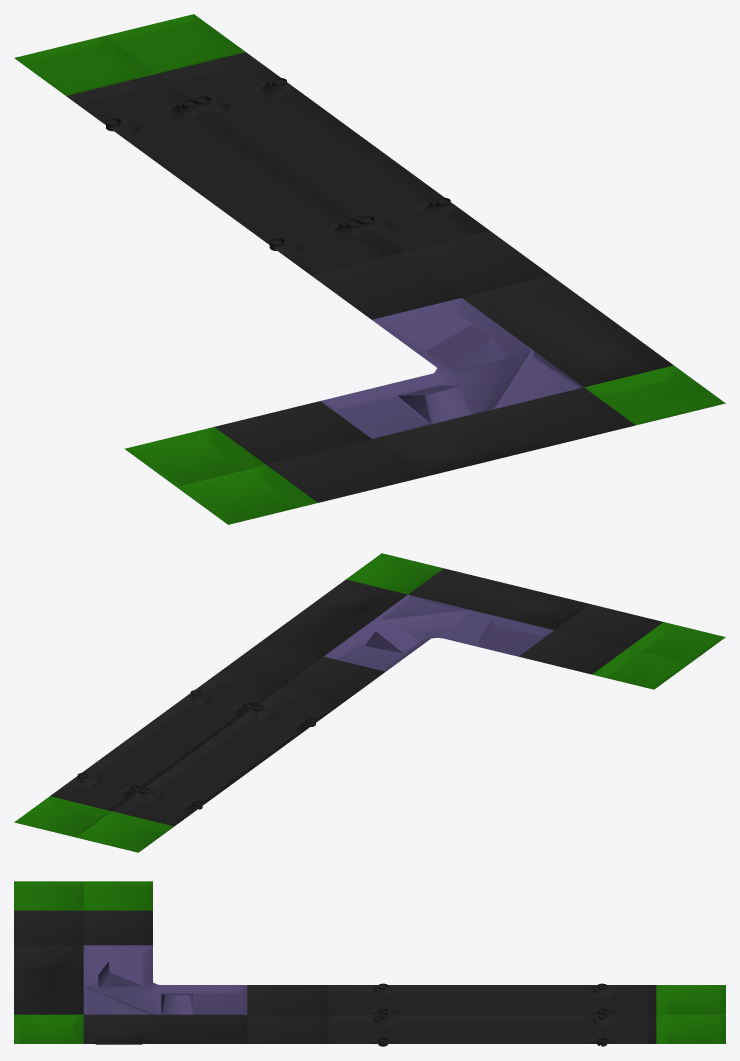
The model's file is Building_A_Staircase_C_Ceiling_A.fbx.
The picture shows the model from 3 angles, top to bottom: view 1: azimuth 30°, elevation 25°; view 2: azimuth 150°, elevation 25°; view 3: azimuth 270°, elevation 25°; orthographic projection. The views are drawn at different scales.
Parts seen in each view (by area): view 1: Geom_Building_A_Staircase_C_Ceiling_A_LOD00; view 2: Geom_Building_A_Staircase_C_Ceiling_A_LOD00; view 3: Geom_Building_A_Staircase_C_Ceiling_A_LOD00.
Boxes of the visible parts, x1,y1,x2,y2 form: Geom_Building_A_Staircase_C_Ceiling_A_LOD00: (14,14,725,524); Geom_Building_A_Staircase_C_Ceiling_A_LOD00: (14,553,725,852); Geom_Building_A_Staircase_C_Ceiling_A_LOD00: (14,881,725,1046).
Size of what is drawn, in the model's own units: 940 by 41.66 by 1740.
